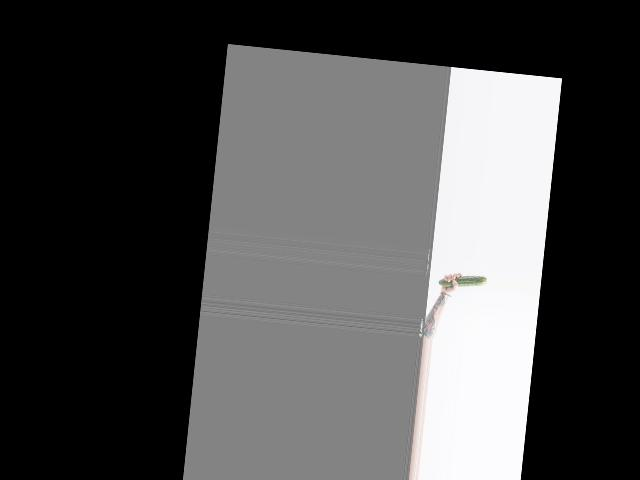cucumber: (438, 271, 487, 290)
